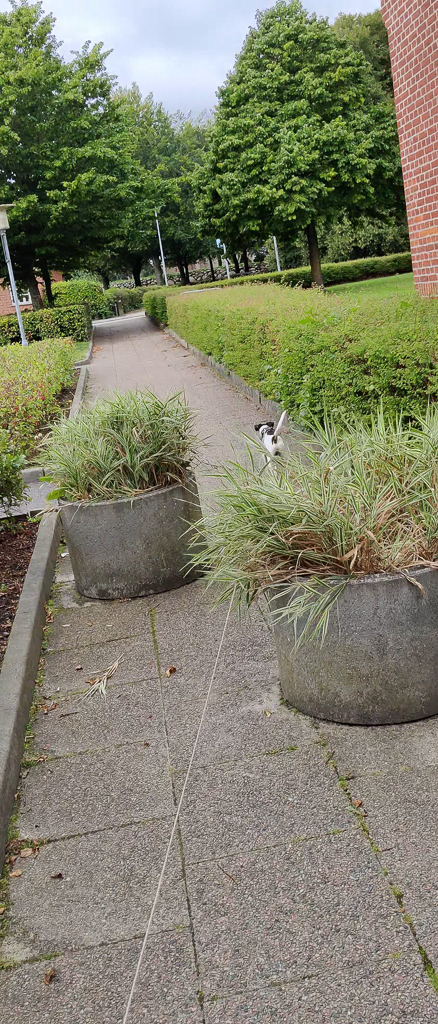Dog: (246, 403, 298, 485)
